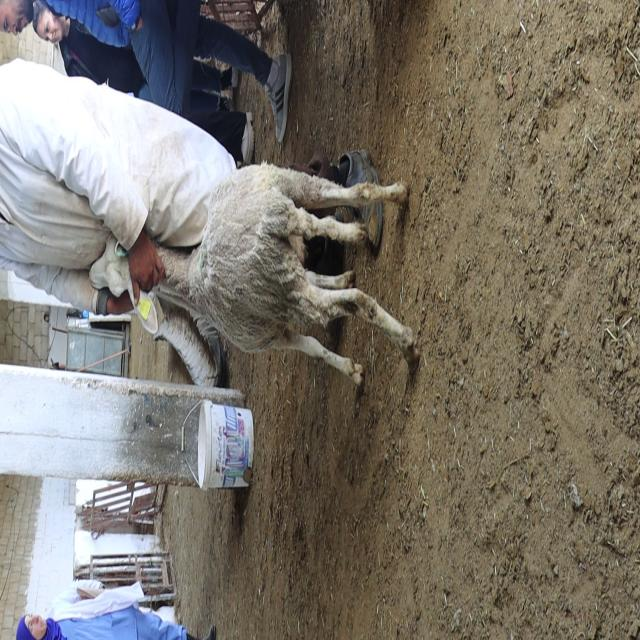Score_1: (154, 164, 419, 389)
